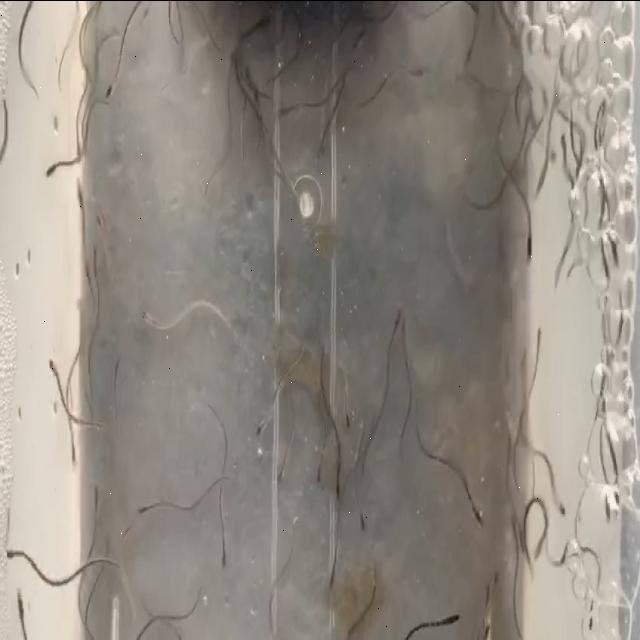active_glass_eel: (82, 480, 110, 540), (12, 575, 35, 640), (461, 480, 486, 528), (610, 459, 628, 516), (252, 402, 276, 443), (68, 425, 86, 475), (39, 354, 65, 388), (438, 602, 464, 636), (92, 210, 112, 252), (600, 478, 616, 530), (352, 491, 370, 537), (101, 66, 122, 105), (520, 221, 536, 271), (586, 590, 602, 640), (134, 486, 152, 530), (118, 502, 138, 540), (272, 91, 292, 129), (528, 322, 548, 359), (386, 295, 404, 336), (331, 458, 348, 500), (45, 151, 69, 180), (3, 542, 31, 565), (550, 484, 570, 516), (87, 241, 104, 277), (138, 297, 158, 327), (240, 64, 260, 94), (314, 454, 328, 494), (256, 4, 276, 32), (326, 545, 338, 591), (219, 528, 232, 570), (410, 58, 430, 85), (273, 457, 289, 490), (75, 175, 89, 212), (338, 394, 352, 431), (240, 86, 250, 130), (482, 574, 493, 612), (491, 564, 501, 603)
